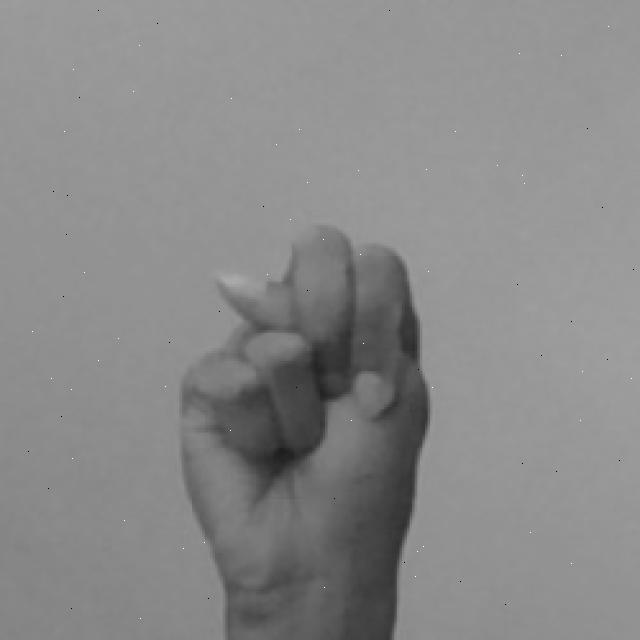N: (177, 215, 443, 640)
